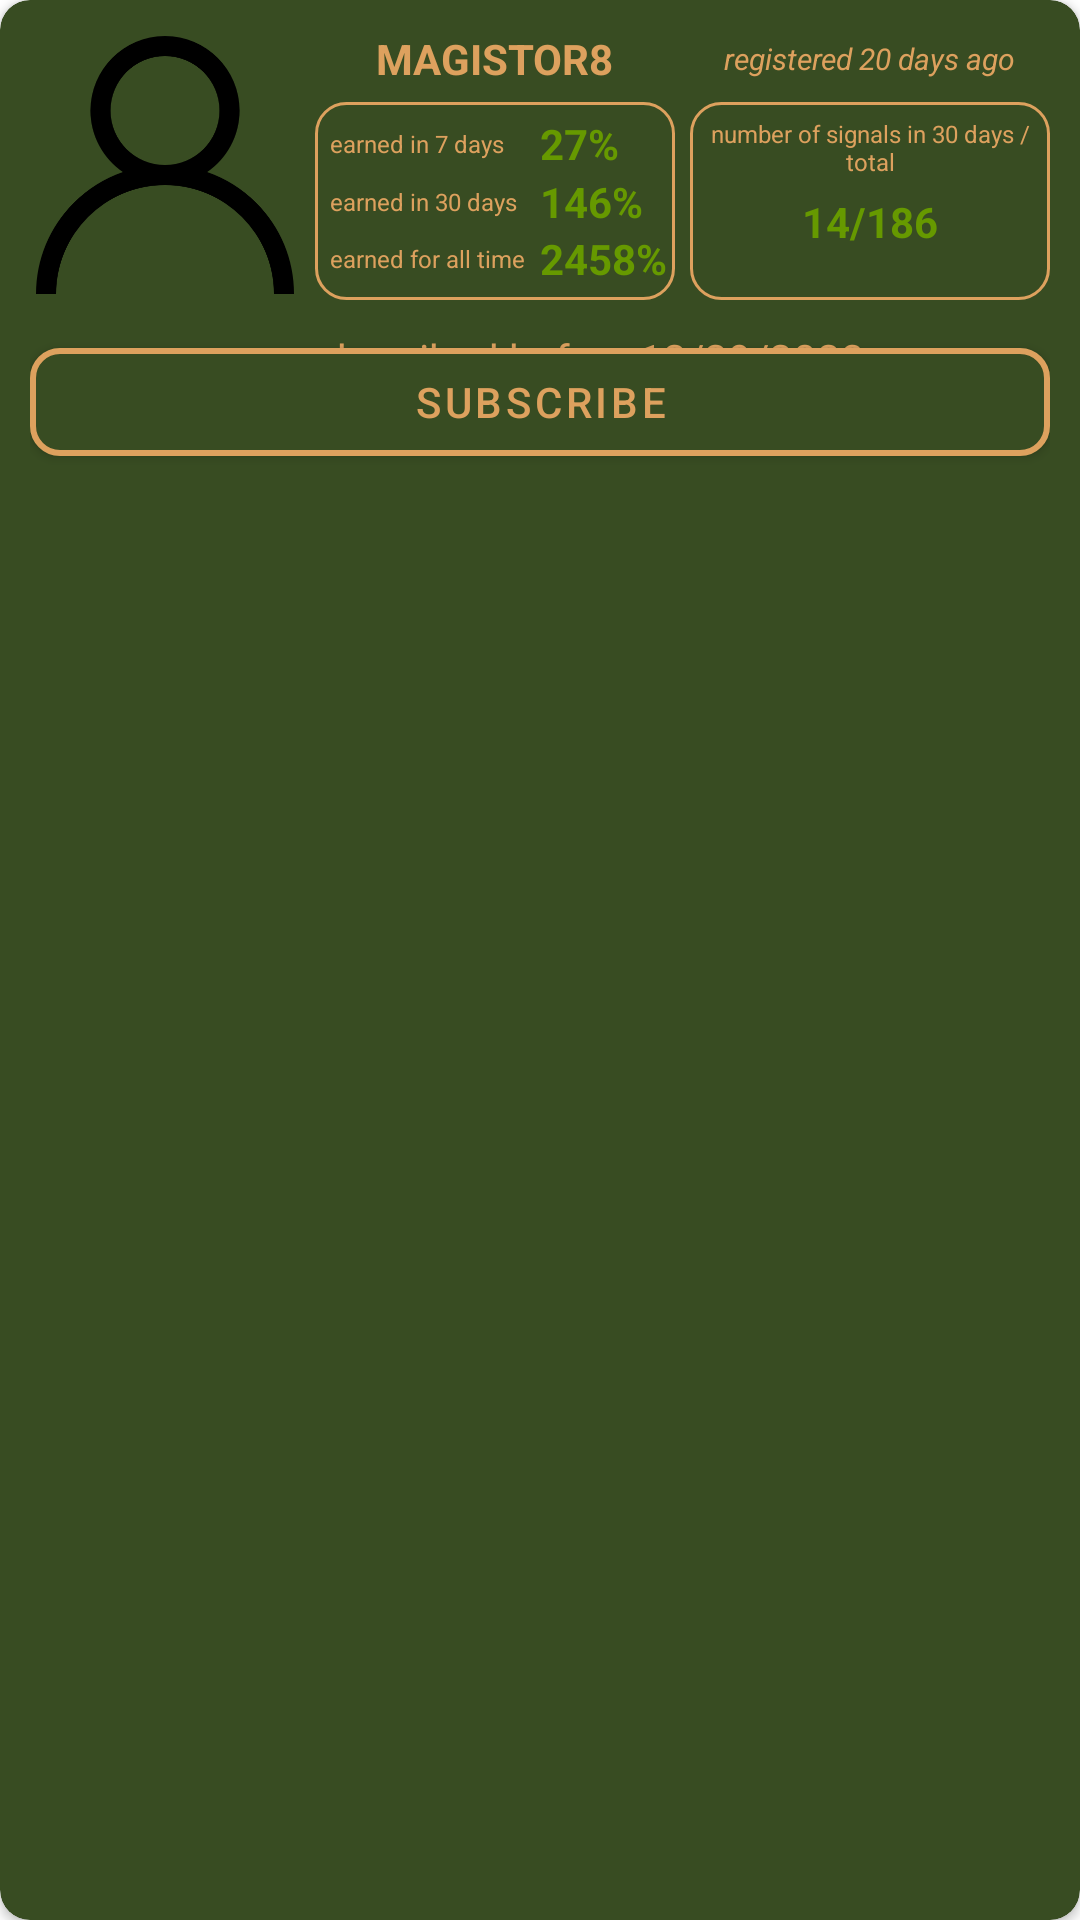

Where icons sit on this 1080px×1920px app screen, as box=[x1, y1, x2, y2]:
user: box=[36, 36, 294, 294]
